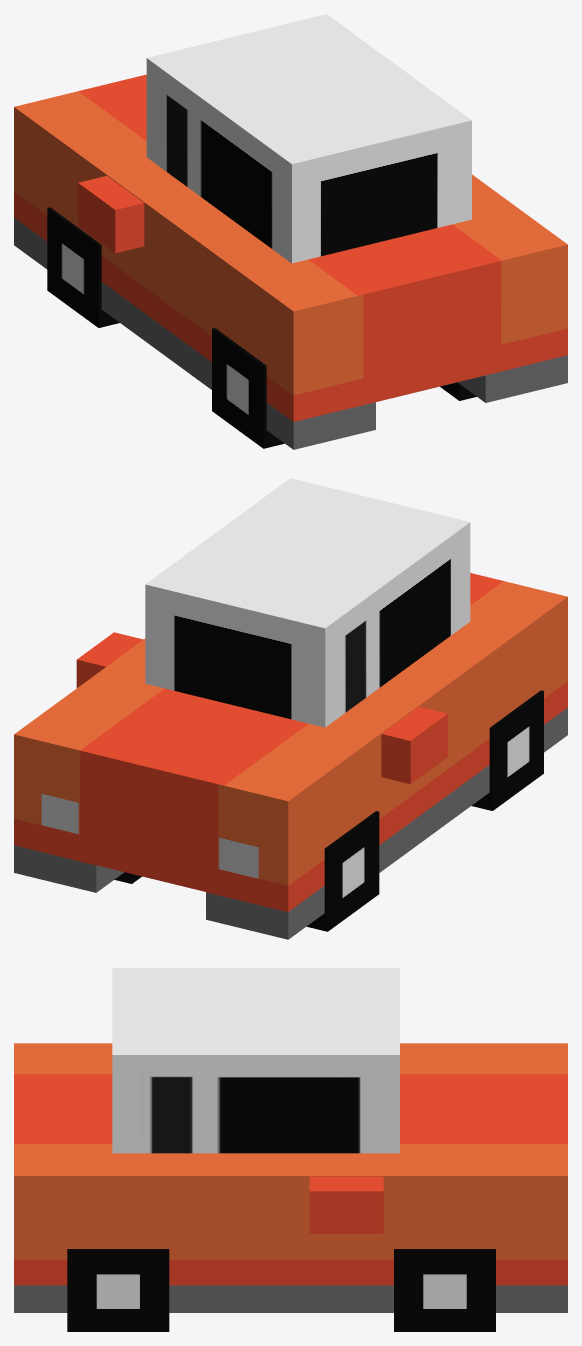
The model's file is orange car.fbx.
The picture shows the model from 3 angles, top to bottom: view 1: azimuth 30°, elevation 25°; view 2: azimuth 150°, elevation 25°; view 3: azimuth 270°, elevation 25°; orthographic projection.
Parts seen in each view (by area): view 1: midden, dakje, wiel5, wiel6, deurknop2; view 2: midden, dakje, wiel6, wiel5, deurknop2, deurknop1; view 3: midden, dakje, wiel4, wiel3, deurknop1.
Boxes of the visible parts, left/top/right/bottom form: midden: left=14, top=74, right=567, bottom=449; dakje: left=146, top=14, right=471, bottom=263; wiel5: left=212, top=328, right=284, bottom=448; wiel6: left=47, top=207, right=119, bottom=327; deurknop2: left=78, top=176, right=144, bottom=253; midden: left=14, top=573, right=567, bottom=939; dakje: left=145, top=478, right=470, bottom=727; wiel6: left=307, top=811, right=379, bottom=931; wiel5: left=471, top=690, right=543, bottom=810; deurknop2: left=381, top=706, right=447, bottom=784; deurknop1: left=76, top=632, right=143, bottom=687; midden: left=14, top=1043, right=567, bottom=1312; dakje: left=112, top=968, right=399, bottom=1153; wiel4: left=67, top=1249, right=169, bottom=1331; wiel3: left=394, top=1249, right=495, bottom=1331; deurknop1: left=309, top=1176, right=383, bottom=1233.
Size of the model in its own units: 2.03 by 1.48 by 2.94.
5 materials, 5 textured.
